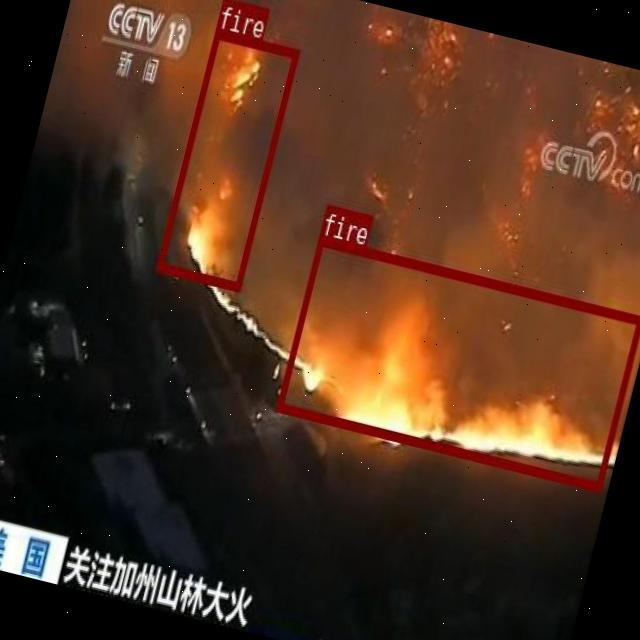fire: (275, 235, 640, 490), (156, 28, 298, 290)
